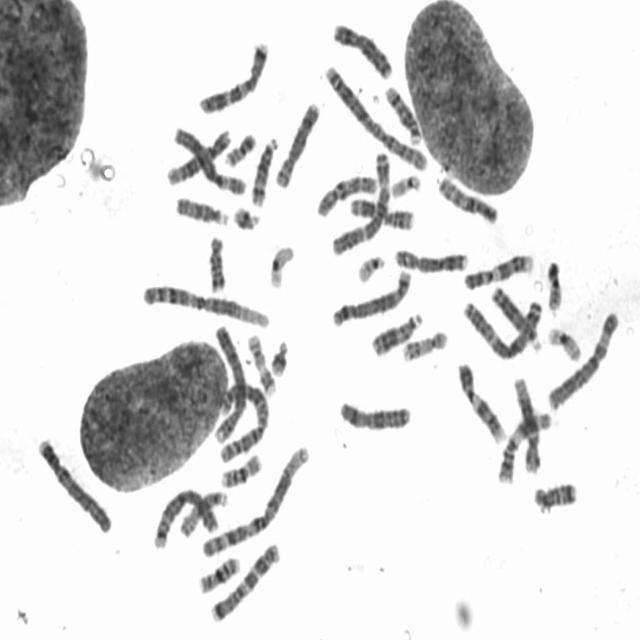A1: (196, 438, 313, 560), (138, 275, 272, 331)
A2: (319, 56, 429, 173), (211, 374, 270, 465)
A3: (328, 142, 392, 256), (459, 290, 545, 360)
B4: (33, 430, 114, 535), (209, 316, 249, 444)
B5: (327, 262, 413, 328), (149, 482, 228, 550)
C10: (432, 168, 500, 226), (312, 166, 380, 218)
C11: (494, 405, 554, 486), (346, 190, 416, 231)
C12: (162, 122, 233, 187), (509, 370, 543, 474)
C6: (542, 303, 622, 412), (169, 120, 247, 196)
C7: (206, 536, 282, 624), (193, 32, 271, 116)
C8: (271, 94, 322, 189), (390, 240, 470, 274)
C9: (452, 354, 508, 444), (459, 245, 535, 291)
D13: (486, 278, 543, 355), (366, 304, 425, 357)
D14: (381, 77, 424, 146), (246, 129, 280, 207)
D15: (175, 483, 230, 539), (170, 189, 230, 227)
E16: (194, 548, 242, 596), (216, 446, 264, 489)
E17: (242, 327, 278, 397), (397, 322, 450, 364)
E18: (529, 474, 580, 512), (204, 228, 228, 294)
F19: (543, 320, 584, 363), (265, 237, 296, 290)
F20: (221, 125, 258, 169), (542, 253, 565, 313)
G21: (228, 199, 262, 233), (266, 332, 290, 378)
G22: (352, 248, 387, 284), (386, 167, 423, 199)
X: (329, 14, 395, 80), (335, 392, 413, 432)
